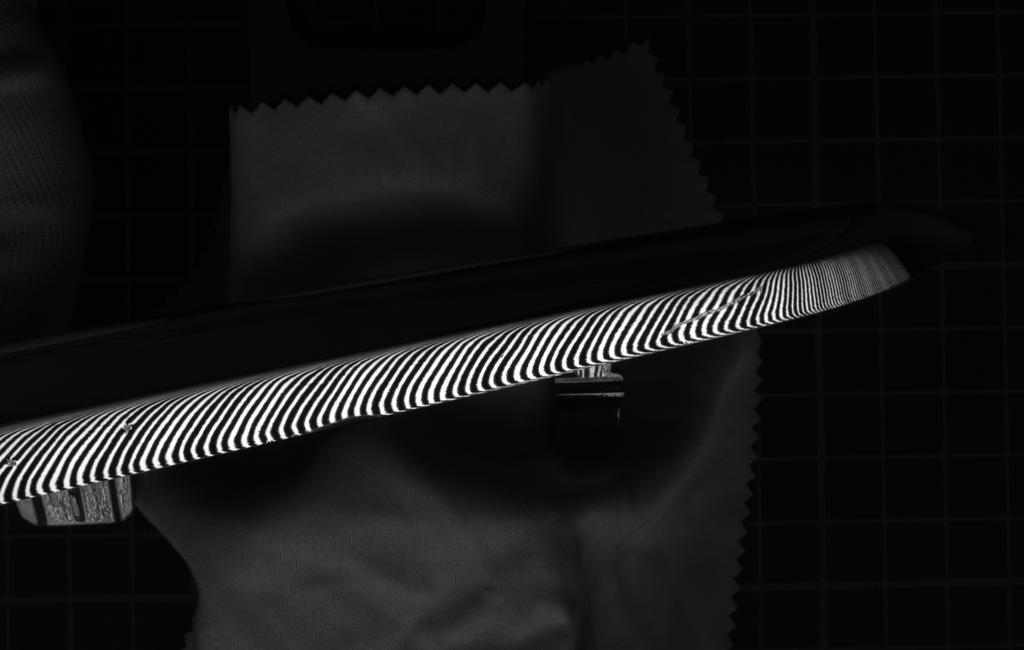Pierced: (1, 452, 22, 475), (116, 419, 141, 435)
Scratch: (654, 279, 774, 341)
